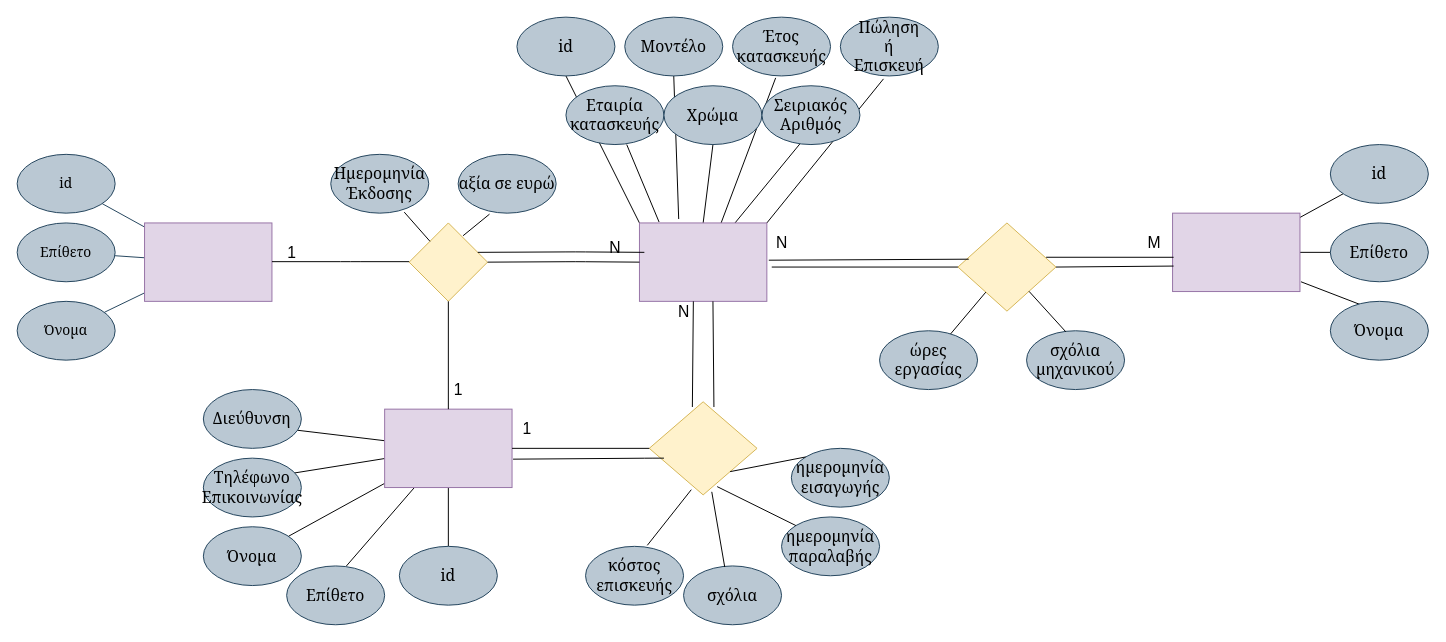
Image size: 1446x642. Some labels were removed from this diagram. Here are the shapes that lost their labels. From the top down, the centre of each, then its label:
pixel 208 261: Πωλητής
pixel 448 261: Πώληση
pixel 702 261: Αυτοκίνητο
pixel 1006 266: Περνάει από service
pixel 1236 252: Μηχανικός
pixel 448 448: Πελάτης
pixel 702 448: Παραδόθηκε για service
